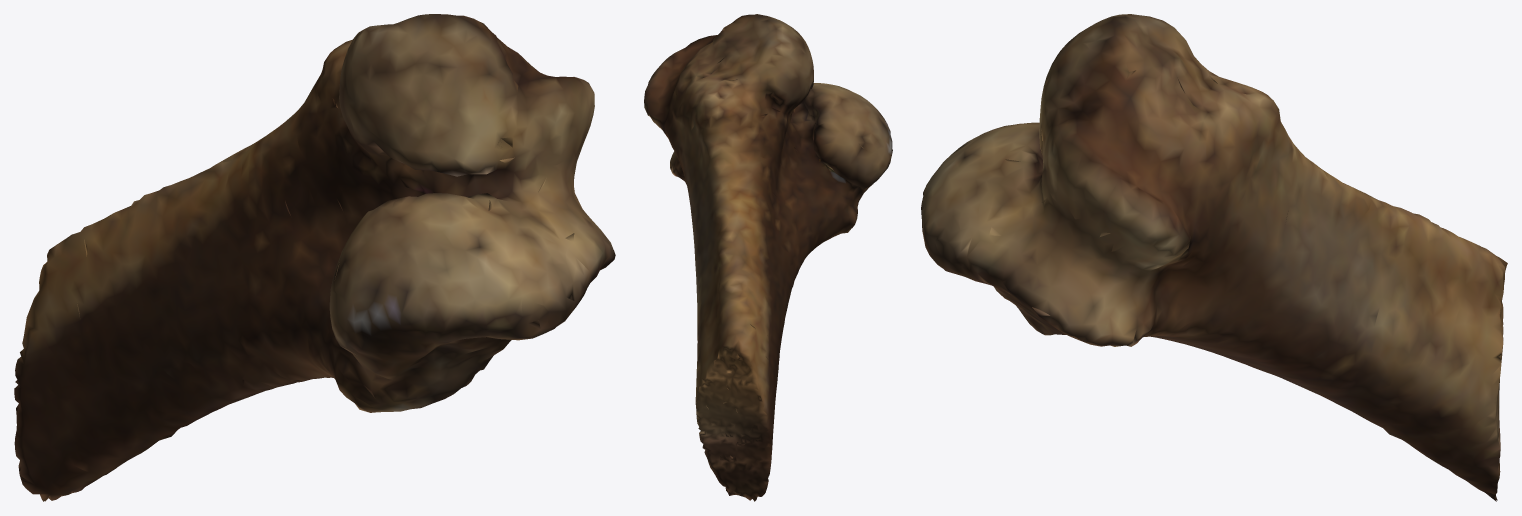
File: 2fixed_mastadon_femur.fbx
3 views of the same model, side by side, from view 1: azimuth 30°, elevation 25°; view 2: azimuth 150°, elevation 25°; view 3: azimuth 270°, elevation 25° (orthographic). The views are drawn at different scales.
Visible parts, largest first — view 1: 4298_mastodon_right_femur; view 2: 4298_mastodon_right_femur; view 3: 4298_mastodon_right_femur.
Boxes of the visible parts, x1=… form: 4298_mastodon_right_femur: x1=14, y1=14, x2=615, y2=501; 4298_mastodon_right_femur: x1=644, y1=14, x2=892, y2=501; 4298_mastodon_right_femur: x1=921, y1=14, x2=1507, y2=501.
Bounding box in the file's own units: 11936 × 17578 × 17012.
